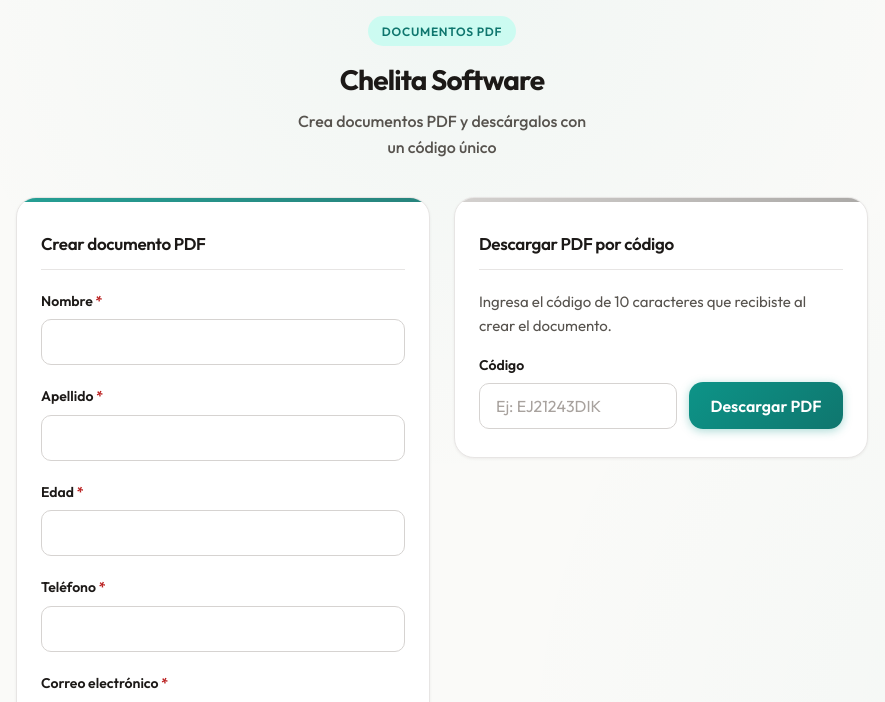
Test: App › validación descarga: código con menos de 10 caracteres muestra error
Type "ABC" into the field with placeholder "Ej: EJ21243DIK" at [578, 406], box [479, 383, 677, 429]
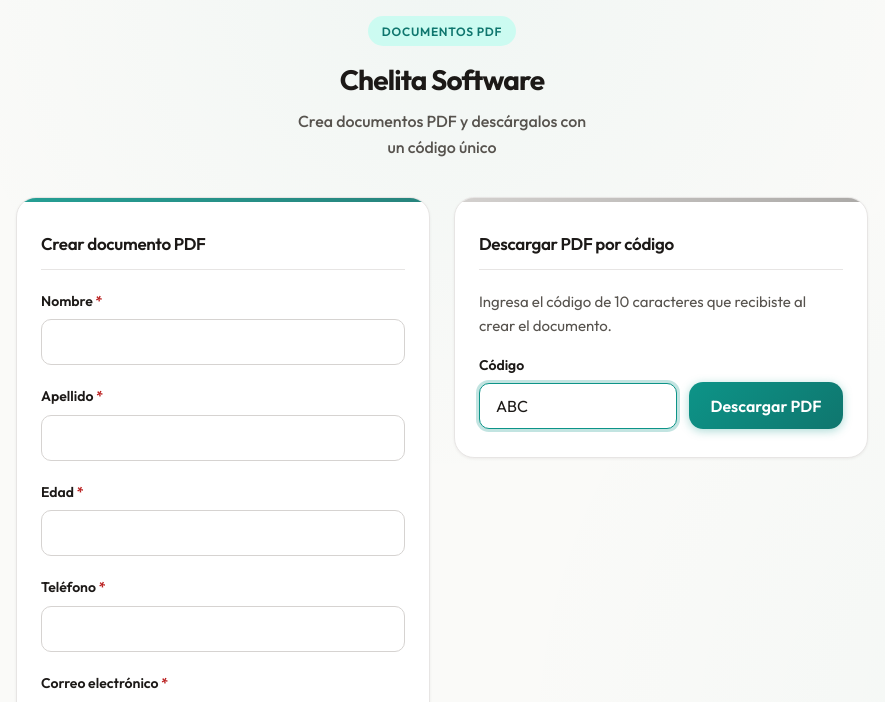
Click the button "Descargar PDF" at [766, 406], box [689, 382, 843, 429]
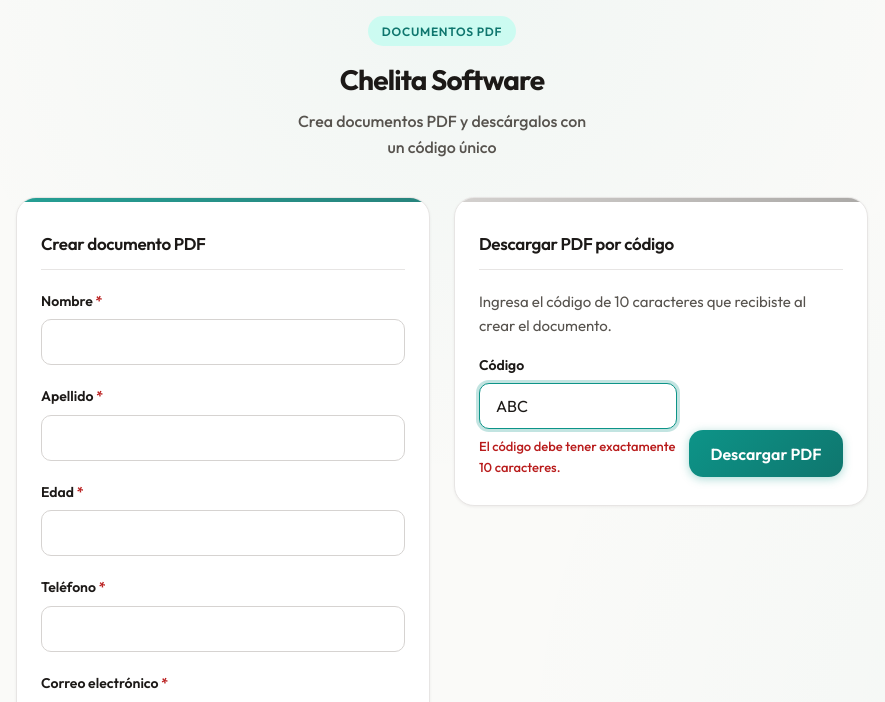
Now the text "El código debe tener exactamente 10 caracteres." is shown, box [479, 436, 677, 477]
